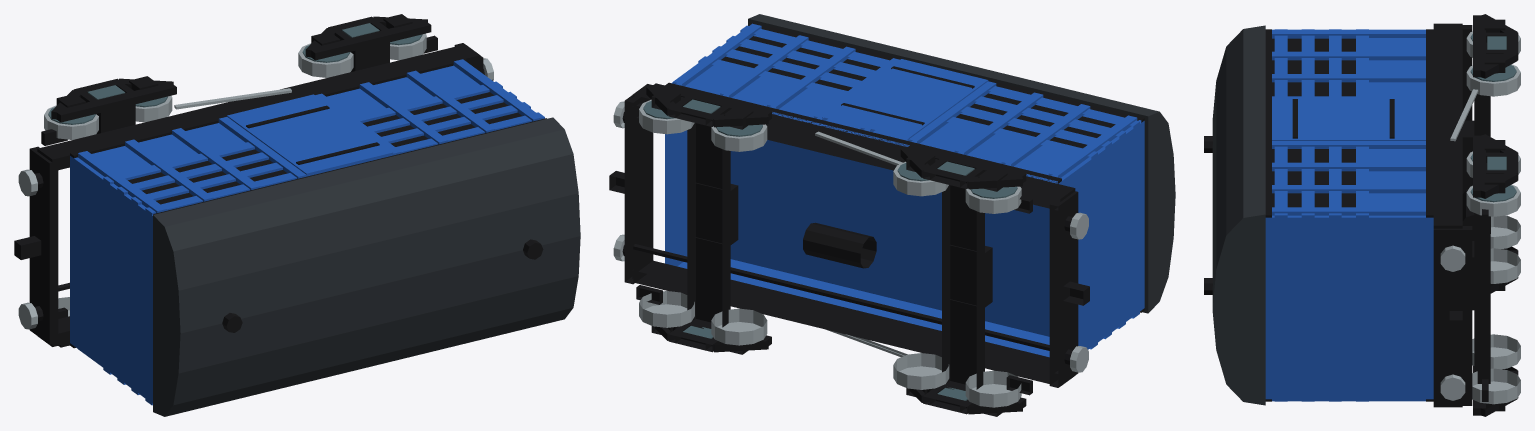
3 views of the same model, side by side, from view 1: azimuth 30°, elevation 25°; view 2: azimuth 150°, elevation 25°; view 3: azimuth 270°, elevation 25° (orthographic). The views are drawn at different scales.
Visible parts, largest first — view 1: default_roof, default_body, default_end-1, default_side1_-0.75_2.12, default_bogie-1, default_solebar1, default_bogie1, default_headstock-1, default_inner, default_side1_-3.40_3.42, default_side1_-3.40_3.00, default_side1_-3.40_3.84 (+13 smaller); view 2: default_body, default_bogie1, default_bogie-1, default_end-1, default_roof, default_solebar-1, default_side1_-0.75_2.12, default_headstock1, default_headstock-1, default_solebar1, default_inner, default_brake_cylinder (+21 smaller); view 3: default_end1, default_roof, default_body, default_bogie1, default_bogie-1, default_side1_-0.75_2.12, default_solebar1, default_headstock1, default_inner, default_side1_-3.40_2.00, default_side1_-3.40_3.84, default_side1_-3.40_4.26 (+17 smaller).
Boxes of the visible parts, x1,y1,x2,y2 form: default_roof: (153, 117, 580, 416); default_body: (70, 65, 479, 366); default_end-1: (103, 180, 152, 403); default_side1_-0.75_2.12: (227, 94, 393, 176); default_bogie-1: (44, 76, 176, 347); default_solebar1: (37, 44, 480, 170); default_bogie1: (298, 14, 431, 77); default_headstock-1: (29, 146, 58, 344); default_inner: (128, 92, 522, 204); default_side1_-3.40_3.42: (117, 91, 516, 194); default_side1_-3.40_3.00: (103, 81, 502, 184); default_side1_-3.40_3.84: (131, 102, 530, 204); default_body: (665, 67, 1091, 357); default_bogie1: (639, 83, 771, 354); default_bogie-1: (893, 145, 1026, 416); default_end-1: (1088, 120, 1144, 346); default_roof: (748, 14, 1175, 313); default_solebar-1: (632, 260, 1072, 385); default_side1_-0.75_2.12: (822, 59, 988, 141); default_headstock1: (624, 95, 653, 284); default_headstock-1: (1049, 191, 1078, 387); default_solebar1: (632, 84, 1075, 210); default_inner: (721, 36, 1115, 148); default_brake_cylinder: (803, 222, 876, 268); default_end1: (1265, 215, 1368, 399); default_roof: (1212, 25, 1265, 405); default_body: (1369, 38, 1433, 399); default_bogie1: (1466, 134, 1520, 416); default_bogie-1: (1466, 14, 1520, 293); default_side1_-0.75_2.12: (1272, 99, 1425, 140); default_solebar1: (1433, 23, 1462, 228); default_headstock1: (1433, 226, 1472, 405); default_inner: (1272, 38, 1355, 207); default_side1_-3.40_2.00: (1426, 29, 1433, 217); default_side1_-3.40_3.84: (1301, 29, 1314, 217); default_side1_-3.40_4.26: (1274, 29, 1287, 217).
Bounding box in the file's own units: 8.2 × 3.9 × 4.9.
